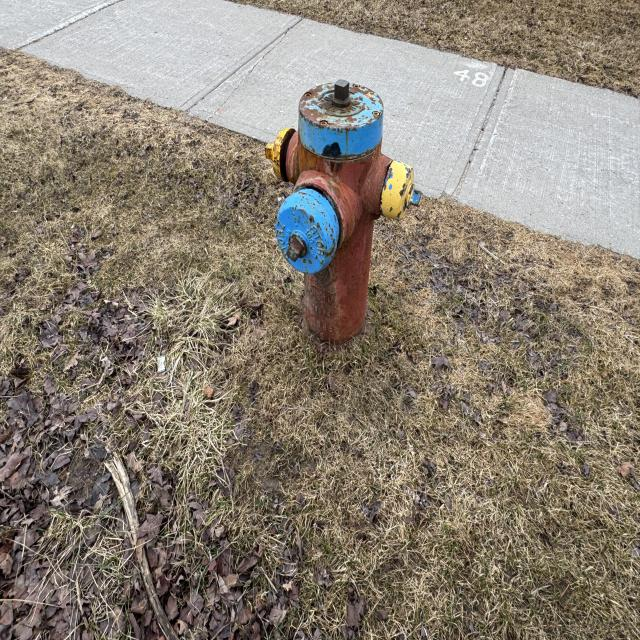Fire hydrant: (264, 79, 422, 357)
